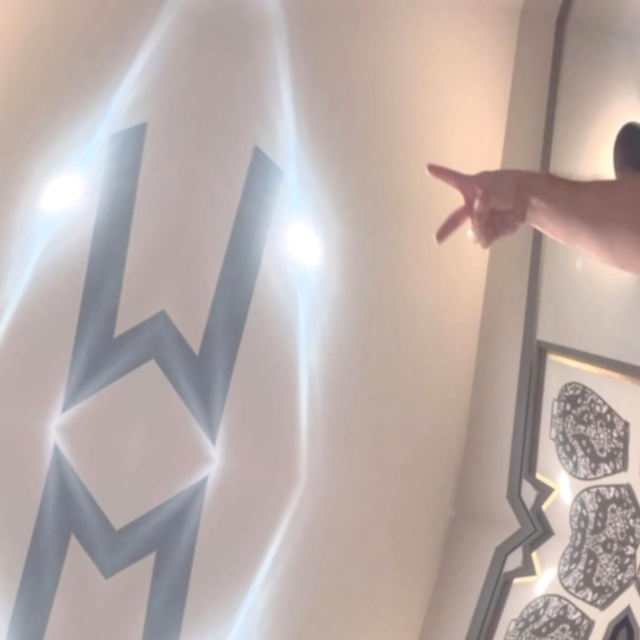Scissors: (398, 129, 550, 281)
